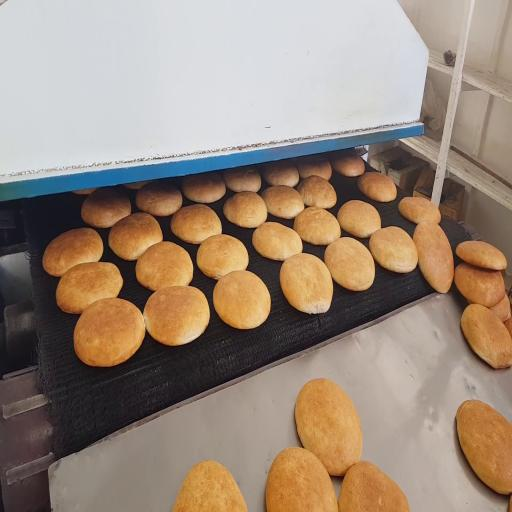bread: (295, 379, 362, 475), (456, 400, 511, 494), (74, 298, 145, 366), (266, 448, 337, 511), (144, 286, 209, 346), (173, 461, 247, 511), (339, 461, 409, 511), (56, 262, 123, 313), (213, 270, 270, 329), (461, 304, 511, 368), (280, 254, 333, 313), (413, 221, 454, 293), (43, 228, 103, 276), (136, 242, 193, 291), (324, 237, 375, 291), (109, 213, 162, 260), (197, 234, 248, 279), (454, 263, 505, 307), (370, 227, 417, 273), (171, 204, 221, 244), (82, 188, 131, 228), (253, 222, 302, 261), (294, 207, 341, 245), (338, 200, 381, 238), (136, 181, 182, 216), (223, 192, 267, 228), (456, 241, 507, 270), (262, 186, 304, 219), (183, 173, 225, 203), (298, 175, 336, 208), (358, 172, 396, 202), (399, 197, 441, 224), (222, 166, 262, 192), (263, 160, 299, 187), (330, 151, 365, 176), (296, 156, 331, 180), (491, 295, 510, 322), (124, 181, 150, 190), (73, 188, 96, 195), (504, 319, 511, 337)
